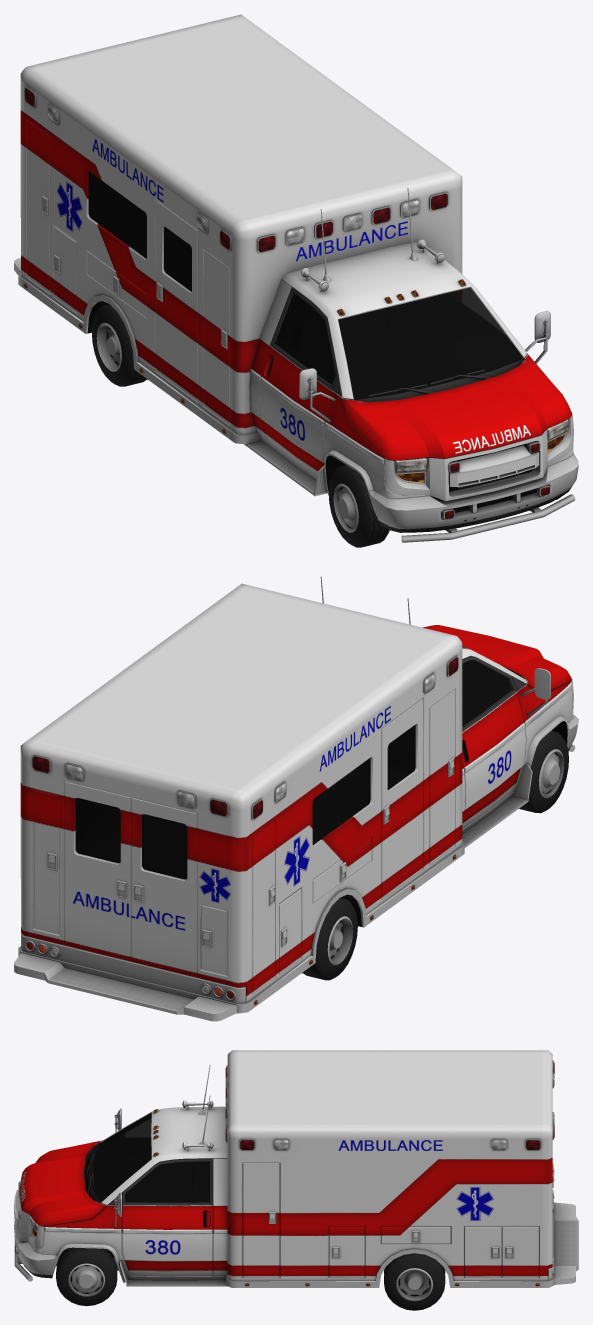
File: ambul.glb
3 renders of one model, top to bottom at view 1: azimuth 30°, elevation 25°; view 2: azimuth 150°, elevation 25°; view 3: azimuth 270°, elevation 25°, orthographic. The views are drawn at different scales.
Parts seen in each view (by area): view 1: Body (×3), Door skin and glass (×4), TyreRim (×2), Lamp sirenLeft, Lamp head, Lamp sirenRight; view 2: Body (×3), Door skin and glass (×2), TyreRim (×2), Lamp sirenLeft; view 3: Body (×3), Door skin and glass (×4), TyreRim (×2), Lamp sirenRight.
Part boxes in pixels (x1,y1,x2,y2): Body (×3): (14,14,578,542); Door skin and glass (×4): (262,260,550,481); TyreRim (×2): (91,304,389,547); Lamp sirenLeft: (25,88,403,315); Lamp head: (395,419,568,519); Lamp sirenRight: (348,193,465,298); Body (×3): (14,576,578,1021); Door skin and glass (×2): (462,647,550,823); TyreRim (×2): (302,730,568,980); Lamp sirenLeft: (177,645,463,818); Body (×3): (14,1050,578,1287); Door skin and glass (×4): (107,1106,209,1274); TyreRim (×2): (56,1247,445,1310); Lamp sirenRight: (153,1099,554,1154).
Bounding box in the file's own units: 2.1 × 2.09 × 5.6.
Materials: 9 (8 with a texture image).
